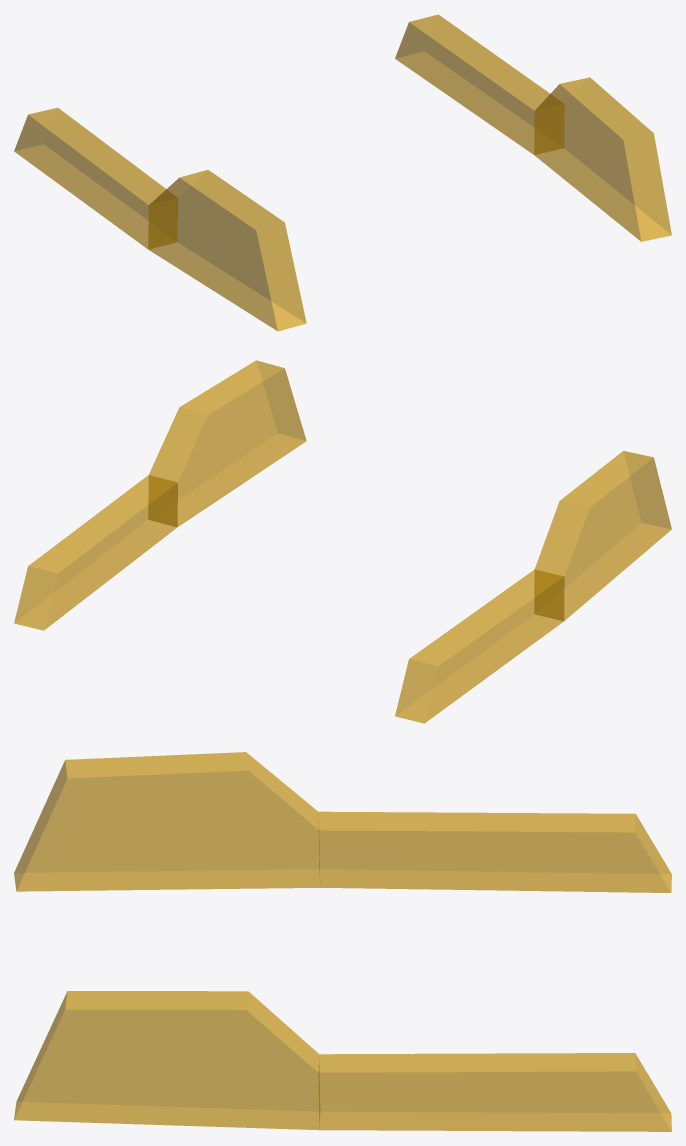
The model's file is SM_Veh_Ship_S_Middle_01_Collision.fbx.
3 renders of one model, top to bottom at view 1: azimuth 30°, elevation 25°; view 2: azimuth 150°, elevation 25°; view 3: azimuth 270°, elevation 25°, orthographic. The views are drawn at different scales.
Parts seen in each view (by area): view 1: SM_Veh_Ship_S_Middle_01_Collision; view 2: SM_Veh_Ship_S_Middle_01_Collision; view 3: SM_Veh_Ship_S_Middle_01_Collision.
Boxes of the visible parts, left/top/right/bottom form: SM_Veh_Ship_S_Middle_01_Collision: left=14, top=14, right=671, bottom=331; SM_Veh_Ship_S_Middle_01_Collision: left=14, top=360, right=671, bottom=723; SM_Veh_Ship_S_Middle_01_Collision: left=14, top=752, right=671, bottom=1131.
Size of the model in its own units: 542 by 118 by 577.
